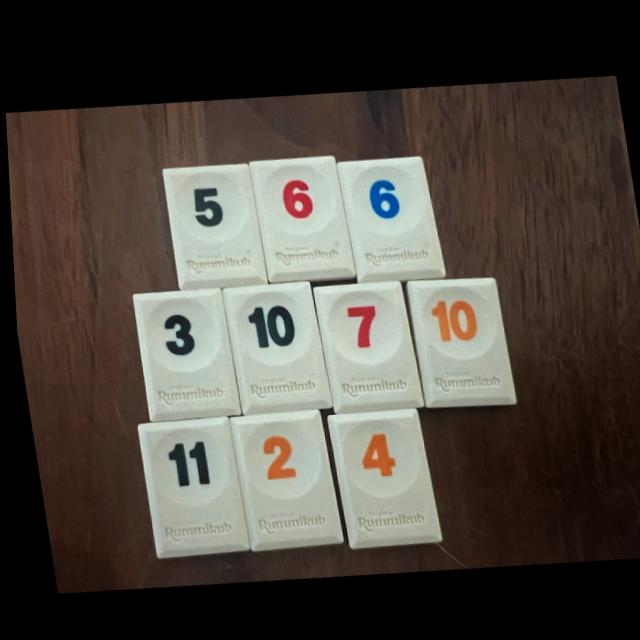black_10: (221, 279, 327, 410)
black_11: (133, 415, 242, 556)
black_3: (129, 286, 236, 420)
black_5: (162, 163, 264, 288)
blue_6: (336, 154, 443, 277)
orange_10: (403, 274, 511, 402)
orange_2: (227, 408, 336, 548)
orange_4: (323, 404, 436, 546)
red_6: (249, 154, 353, 279)
red_7: (310, 278, 418, 409)
